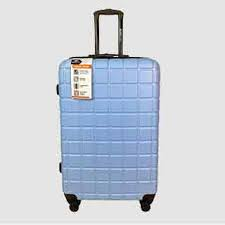suitcase: (55, 8, 161, 213)
